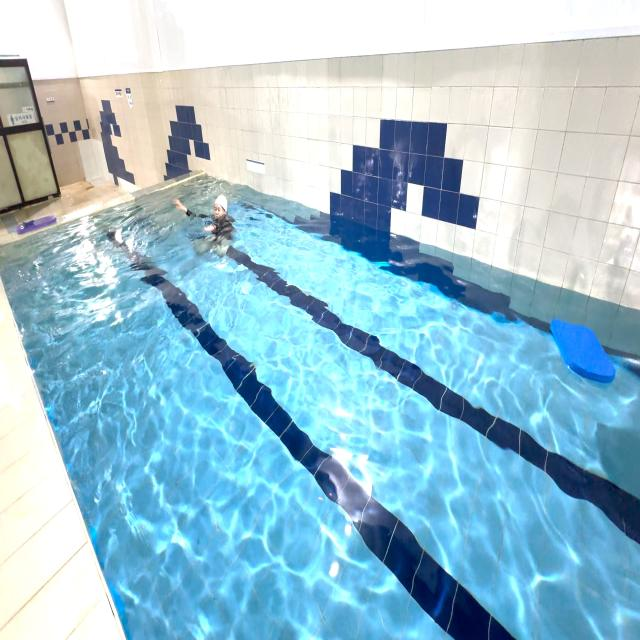Drowning: (170, 183, 238, 261)
